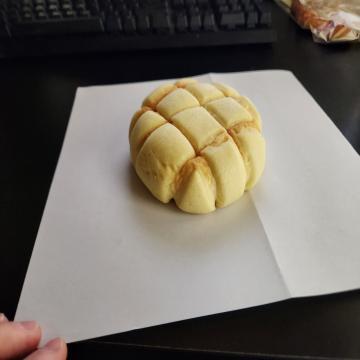melon_bread: (129, 77, 266, 212)
